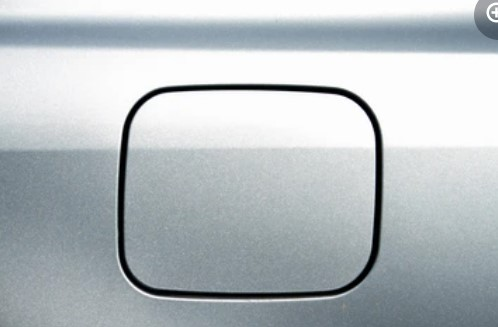closed: (109, 72, 397, 305)
